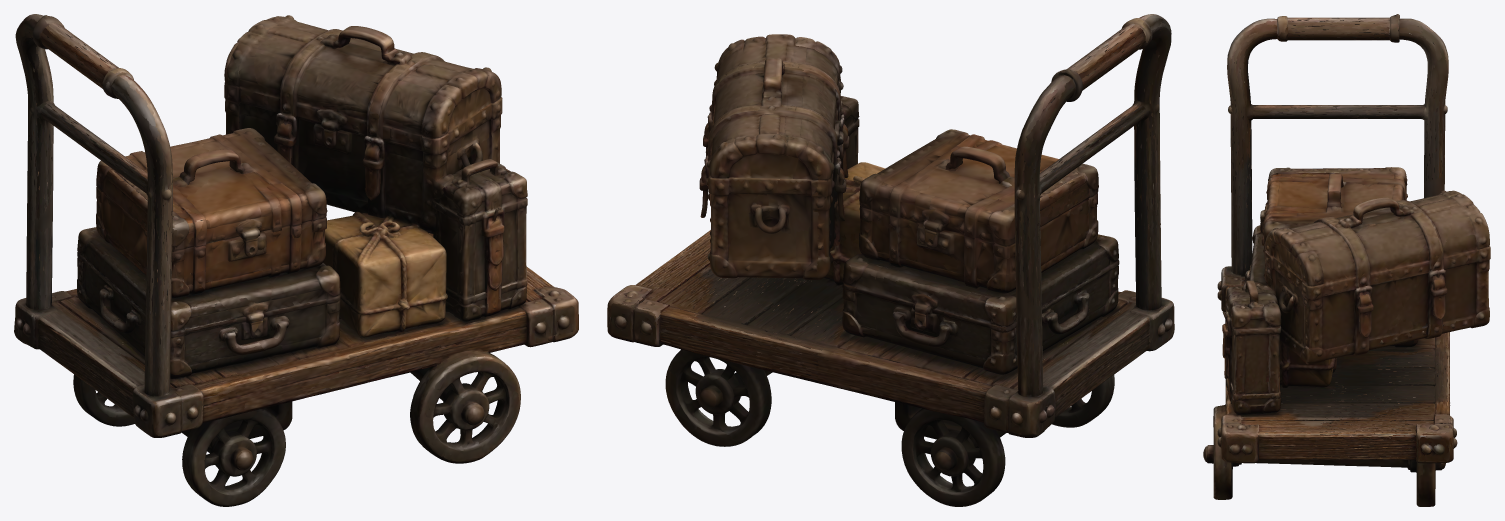
The model's file is vintage-luggage-cart.glb.
3 renders of one model, left to right at view 1: azimuth 30°, elevation 25°; view 2: azimuth 150°, elevation 25°; view 3: azimuth 270°, elevation 25°, orthographic. The views are drawn at different scales.
Parts seen in each view (by area): view 1: tripo_node_60236748-c58a-4207-99c2-d500d906bcf7; view 2: tripo_node_60236748-c58a-4207-99c2-d500d906bcf7; view 3: tripo_node_60236748-c58a-4207-99c2-d500d906bcf7.
Boxes of the visible parts, x1,y1,x2,y2 form: tripo_node_60236748-c58a-4207-99c2-d500d906bcf7: (14, 14, 578, 506); tripo_node_60236748-c58a-4207-99c2-d500d906bcf7: (607, 14, 1174, 506); tripo_node_60236748-c58a-4207-99c2-d500d906bcf7: (1203, 14, 1490, 506).
Size of the model in its own units: 0.9786 by 0.9339 by 0.6765.
1 material, 1 textured.
